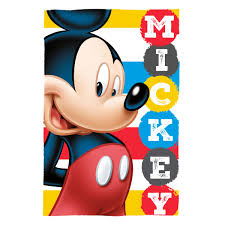mickey: (44, 9, 153, 216)
